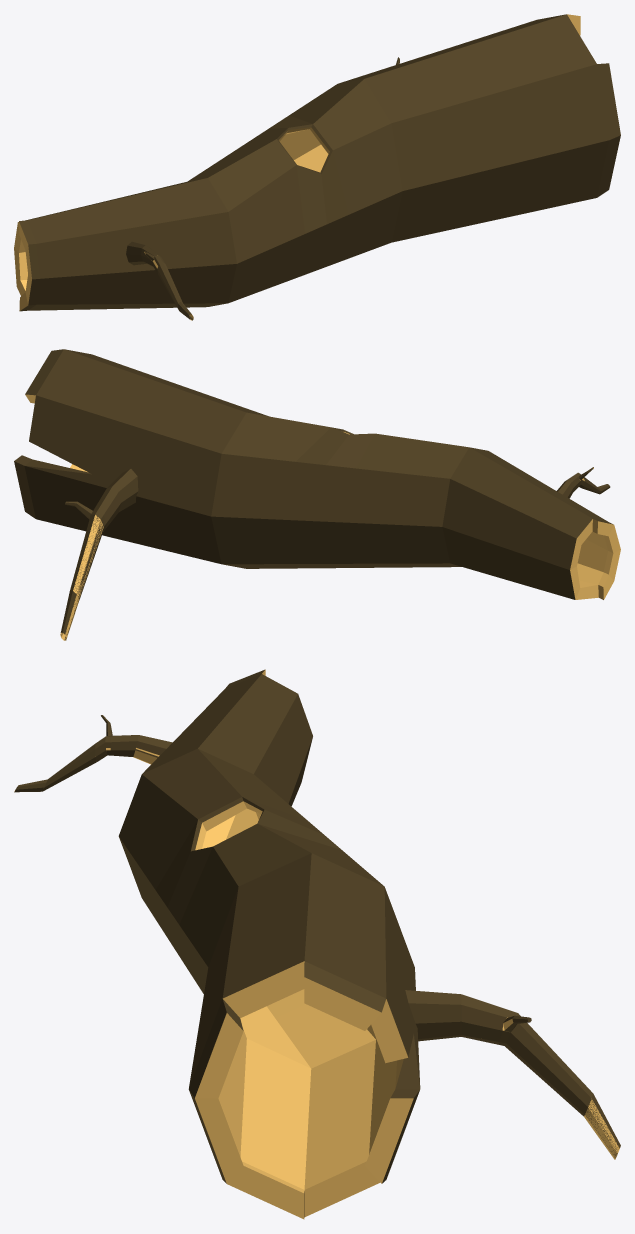
The model's file is kutukkucukbitanedaha.fbx.
3 renders of one model, top to bottom at view 1: azimuth 30°, elevation 25°; view 2: azimuth 150°, elevation 25°; view 3: azimuth 270°, elevation 25°, orthographic. The views are drawn at different scales.
Parts seen in each view (by area): view 1: kutuk.001; view 2: kutuk.001; view 3: kutuk.001.
Part boxes in pixels (bbox=[...]): kutuk.001: bbox=[14, 14, 620, 320]; kutuk.001: bbox=[14, 349, 620, 640]; kutuk.001: bbox=[14, 669, 620, 1219].
Size of the model in its own units: 150 by 50 by 100.
